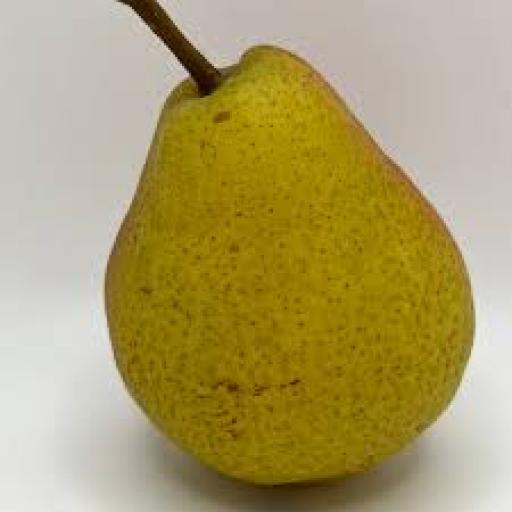pear: (51, 0, 481, 495)
